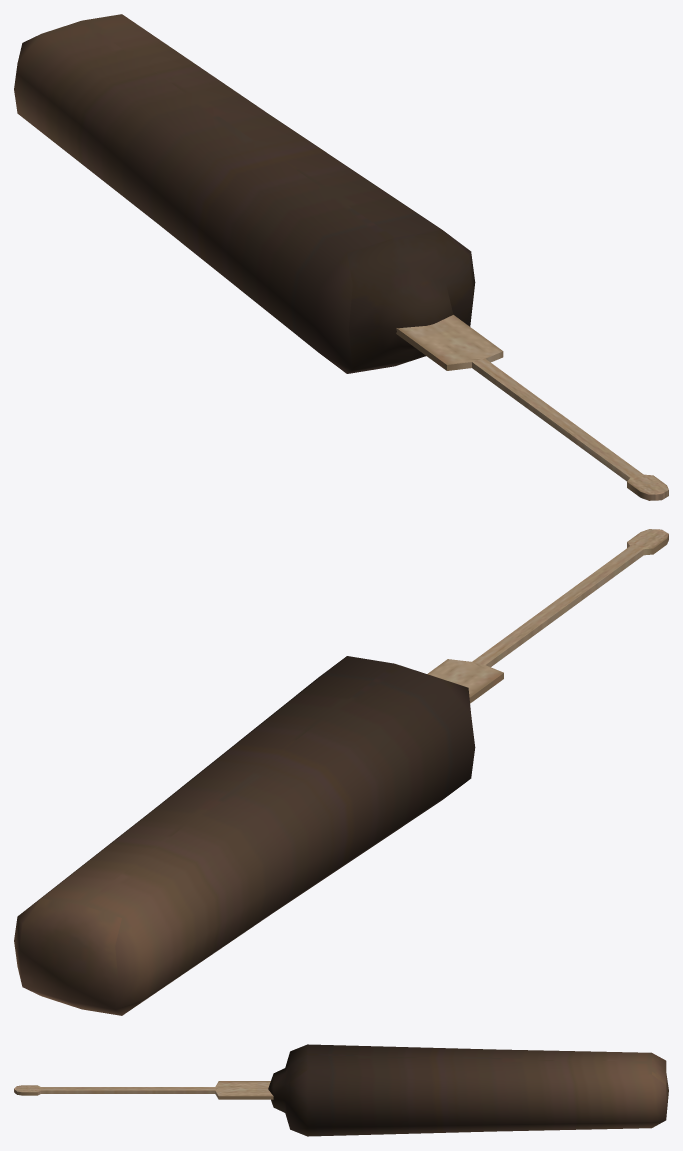
File: sword_l_choco_ar_sword_l_choco_bar1.glb
3 views of the same model, one above another, from view 1: azimuth 30°, elevation 25°; view 2: azimuth 150°, elevation 25°; view 3: azimuth 270°, elevation 25° (orthographic). The views are drawn at different scales.
Size of the model in its own units: 0.356 by 0.2721 by 2.28.
1 material, 1 textured.
